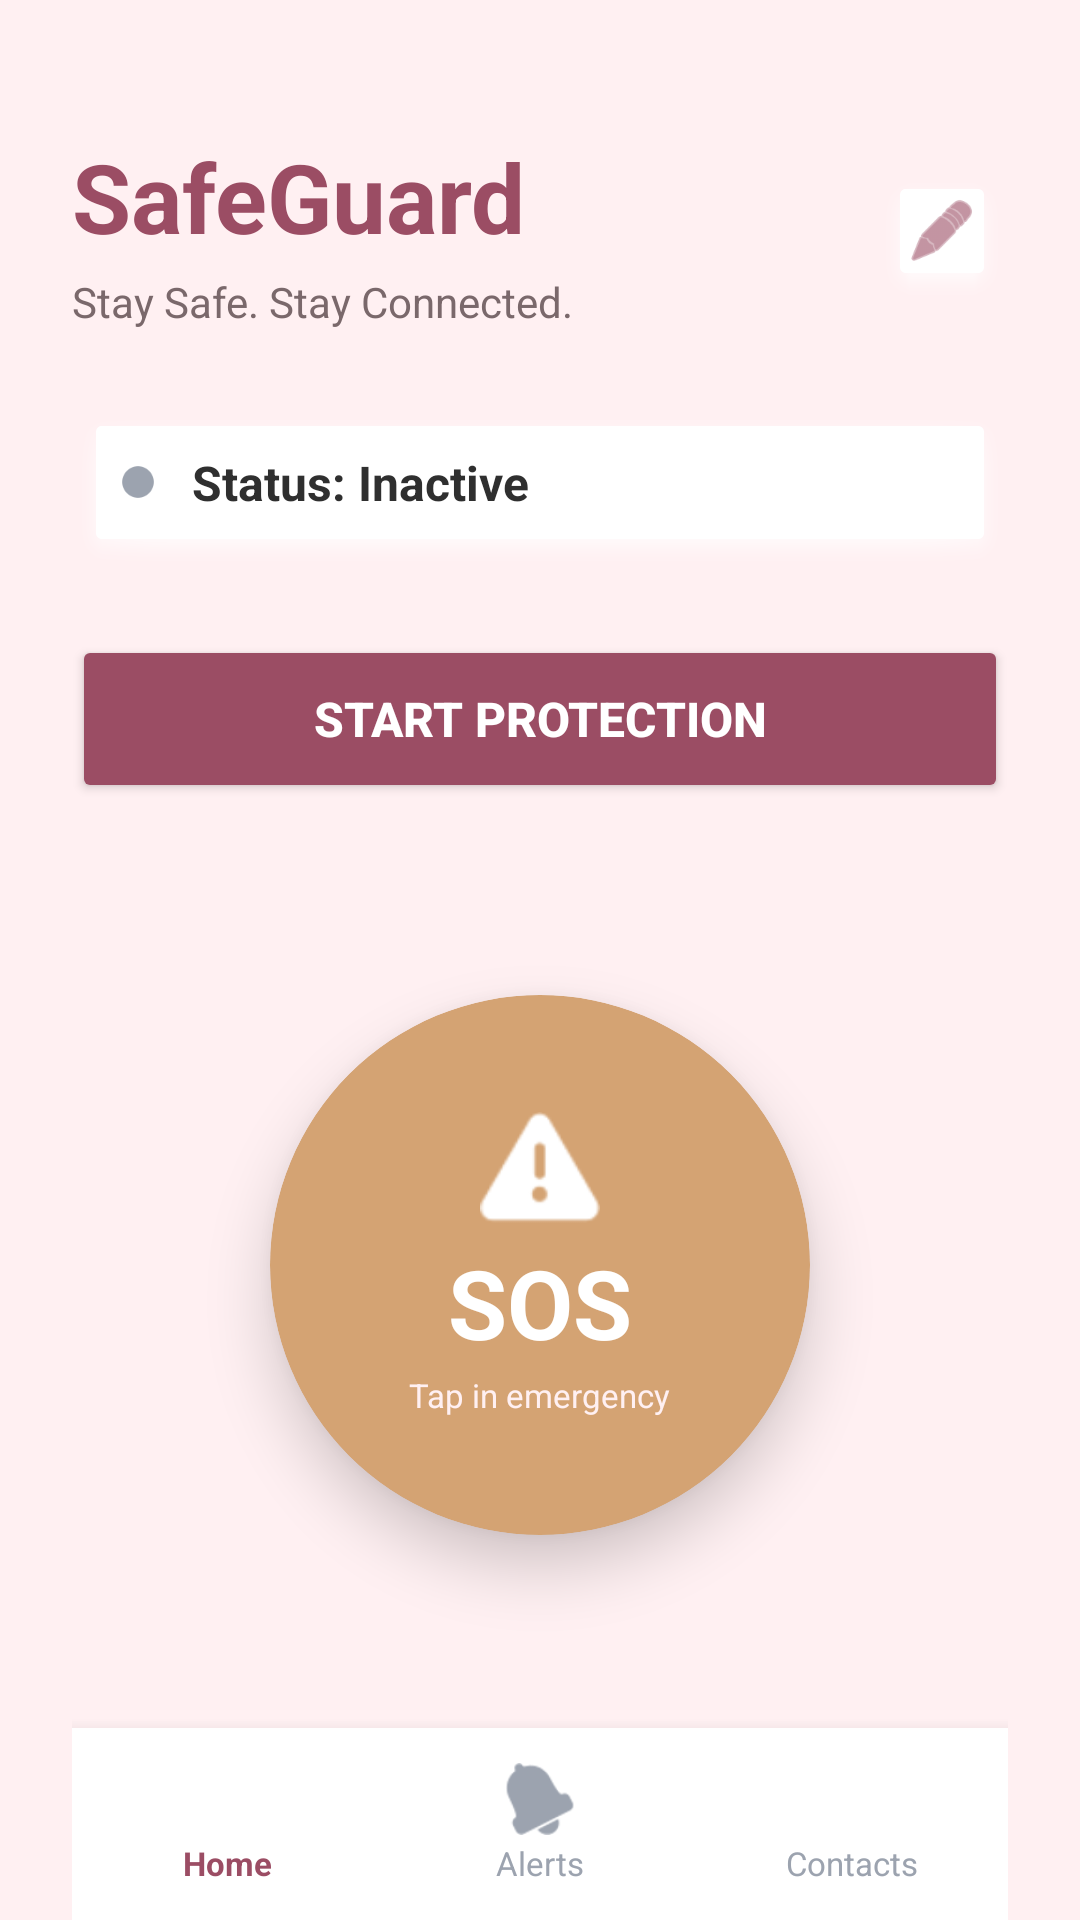

Named icons in this screenshot (1080px×1920px) and their bounding boxes, [left=x1, top=y1, right=x2, bottom=y2]:
alert: [left=480, top=1113, right=600, bottom=1221]
edit: [left=900, top=189, right=984, bottom=274]
popup reminder: [left=506, top=1763, right=574, bottom=1835]
